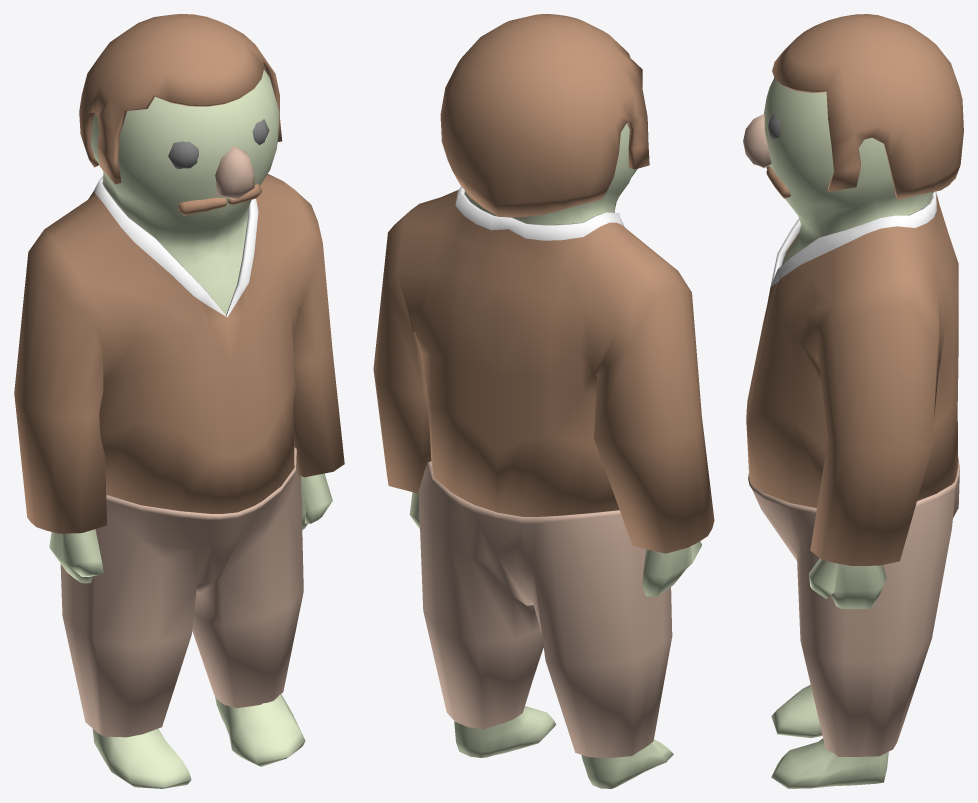
The model's file is uncle.fbx.
3 renders of one model, left to right at view 1: azimuth 30°, elevation 25°; view 2: azimuth 150°, elevation 25°; view 3: azimuth 270°, elevation 25°, orthographic. The views are drawn at different scales.
Parts seen in each view (by area): view 1: Jacket, pantaloni, body, hairs, noseA, baffi, eye_1; view 2: Jacket, pantaloni, hairs, body; view 3: Jacket, pantaloni, hairs, body, noseA.
Part boxes in pixels (x1,y1,x2,y2): Jacket: [14, 174, 344, 533]; pantaloni: [60, 447, 303, 737]; body: [49, 69, 332, 788]; hairs: [79, 14, 282, 184]; noseA: [215, 146, 254, 199]; baffi: [178, 184, 261, 215]; eye_1: [168, 141, 198, 168]; Jacket: [373, 186, 714, 553]; pantaloni: [418, 461, 672, 758]; hairs: [440, 14, 649, 217]; body: [409, 110, 701, 788]; Jacket: [746, 191, 958, 565]; pantaloni: [748, 456, 959, 756]; hairs: [772, 14, 963, 199]; body: [764, 78, 933, 788]; noseA: [743, 114, 771, 168].
Bounding box in the file's own units: 84.46 × 194 × 53.01.
